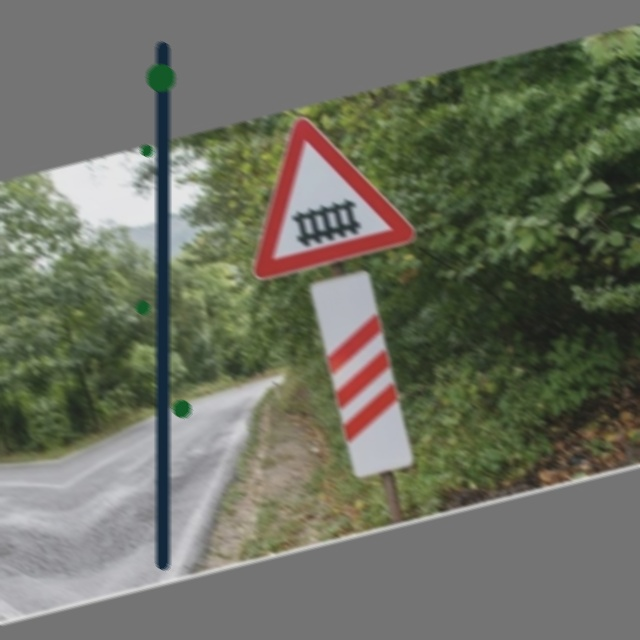Guarded_Level_Crossing: (221, 98, 419, 279)
